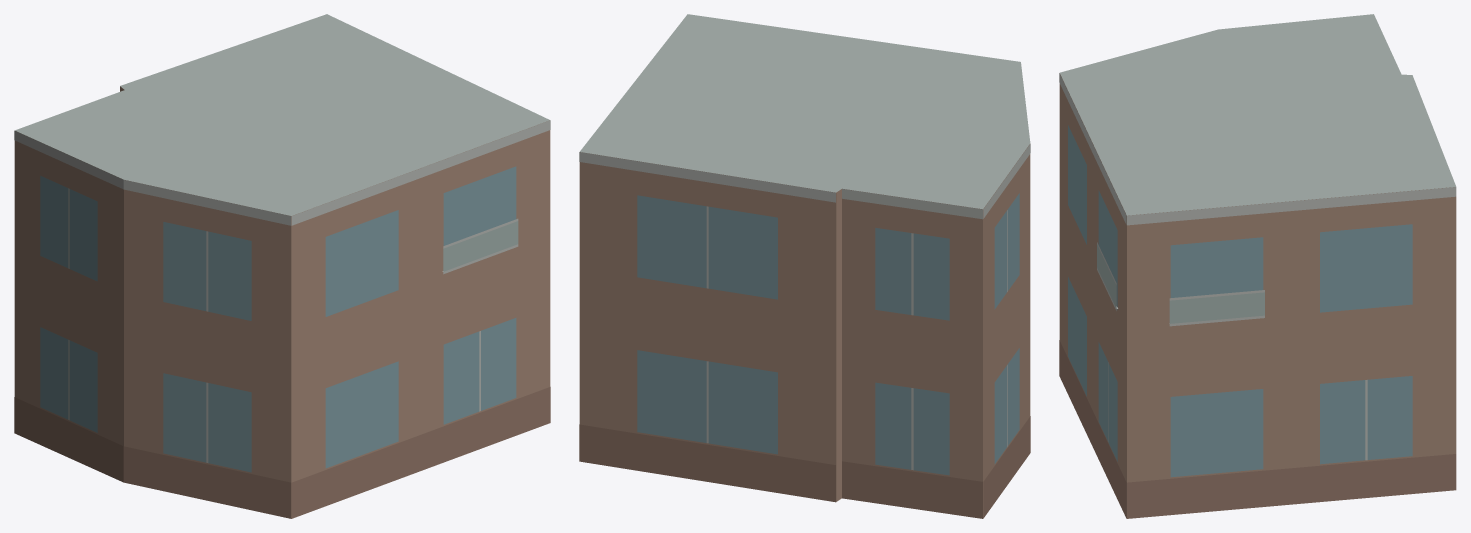
Rendered from survey-upis-32957371.glb.
3 renders of one model, left to right at view 1: azimuth 30°, elevation 25°; view 2: azimuth 150°, elevation 25°; view 3: azimuth 270°, elevation 25°, orthographic. The views are drawn at different scales.
Visible parts, largest first — view 1: survey-upis-32957371.tmp; view 2: survey-upis-32957371.tmp; view 3: survey-upis-32957371.tmp.
Part boxes in pixels (left/top/right/bottom): survey-upis-32957371.tmp: left=14, top=14, right=550, bottom=518; survey-upis-32957371.tmp: left=579, top=14, right=1030, bottom=518; survey-upis-32957371.tmp: left=1059, top=14, right=1456, bottom=518.
Bounding box in the file's own units: 10.7 × 7.5 × 8.91.
